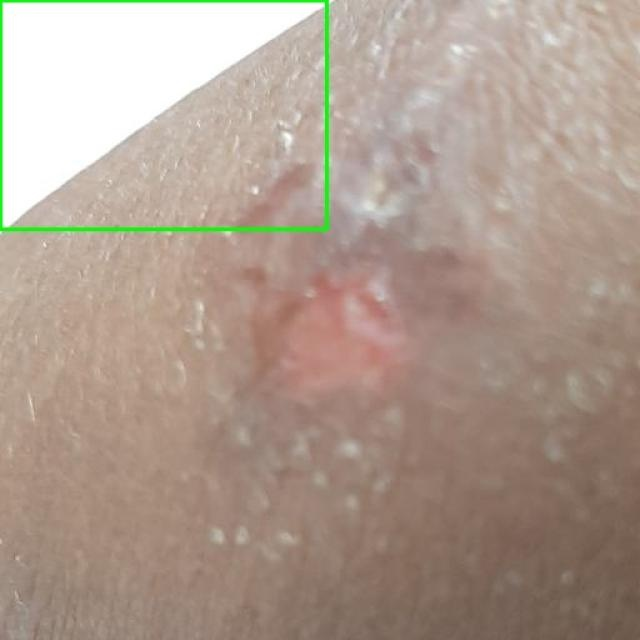Eczema: (0, 0, 326, 229)
